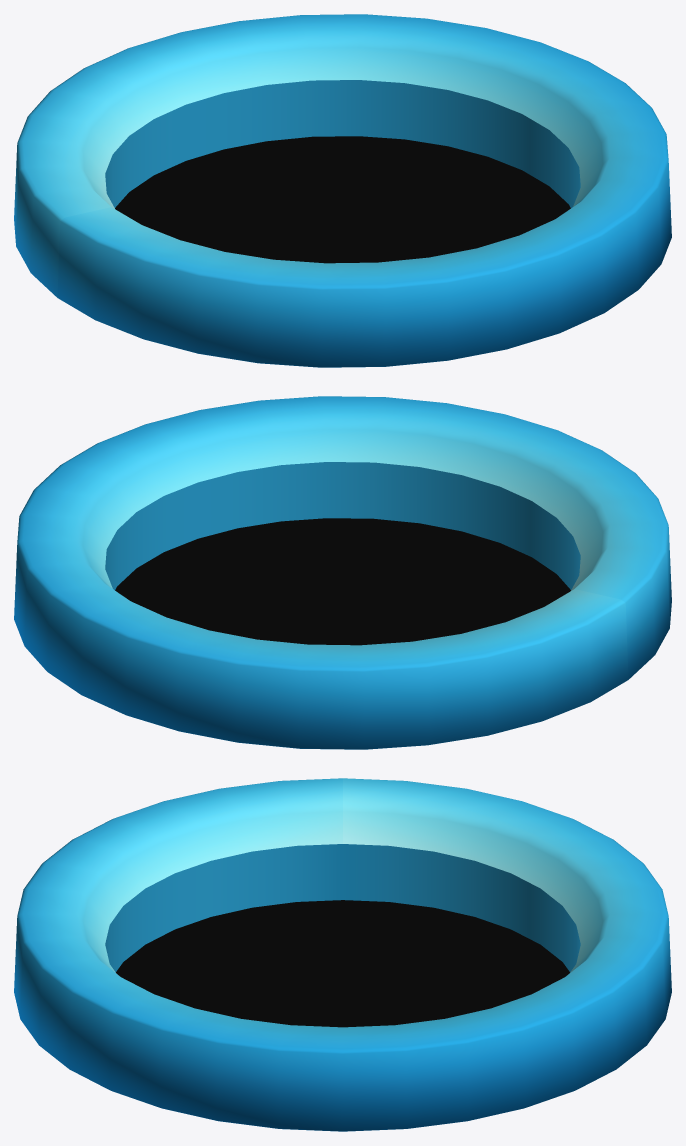
File: hole.fbx
3 views of the same model, one above another, from view 1: azimuth 30°, elevation 25°; view 2: azimuth 150°, elevation 25°; view 3: azimuth 270°, elevation 25° (orthographic).
Parts seen in each view (by area): view 1: hole; view 2: hole; view 3: hole.
Boxes of the visible parts, <box> form: hole: <box>14,14,671,367</box>; hole: <box>14,396,671,749</box>; hole: <box>14,778,671,1131</box>.
Size of the model in its own units: 10.12 by 1.47 by 10.12.
